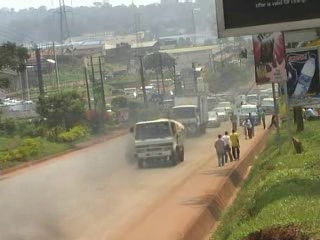Car: (212, 104, 230, 124), (206, 106, 222, 127), (218, 98, 236, 115)
